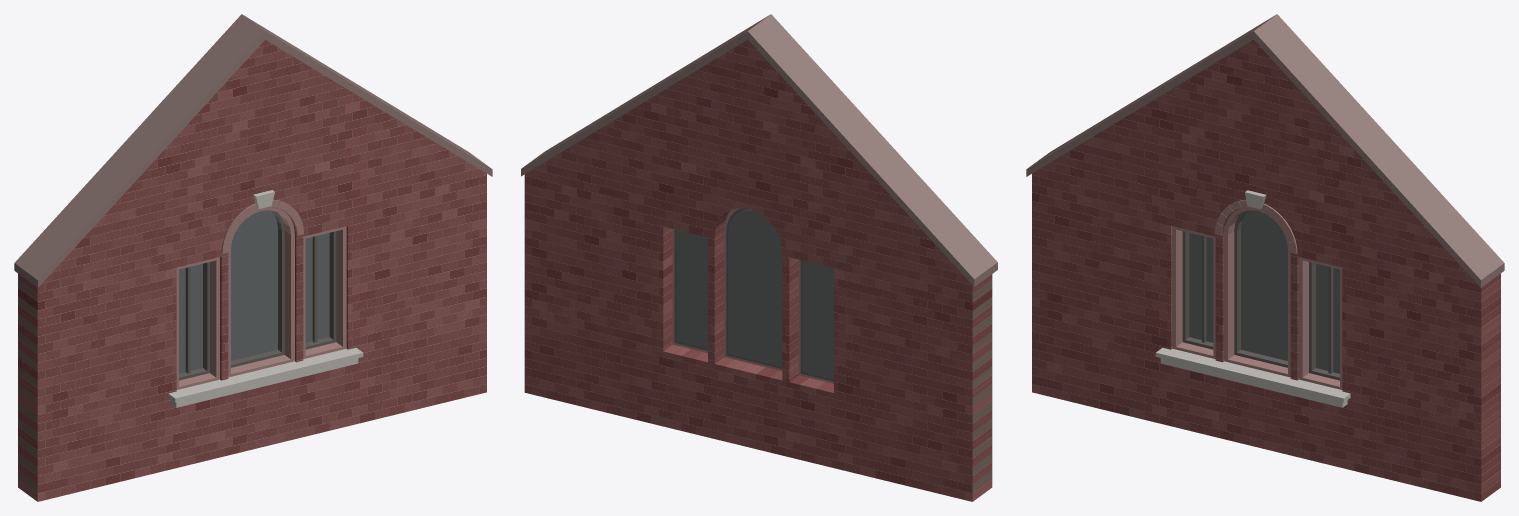
File: nie-garden-triple-attic-light-far.glb
3 renders of one model, left to right at view 1: azimuth 30°, elevation 25°; view 2: azimuth 150°, elevation 25°; view 3: azimuth 330°, elevation 25°, orthographic.
Visible parts, largest first — view 1: 聂家花园高山墙三联窗与拱顶楔石; view 2: 聂家花园高山墙三联窗与拱顶楔石; view 3: 聂家花园高山墙三联窗与拱顶楔石.
Part boxes in pixels (x1,y1,x2,y2): 聂家花园高山墙三联窗与拱顶楔石: (14, 14, 492, 501); 聂家花园高山墙三联窗与拱顶楔石: (521, 14, 997, 501); 聂家花园高山墙三联窗与拱顶楔石: (1026, 14, 1504, 501).
Size of the model in its own units: 3.38 by 2.97 by 0.354.
Materials: 6 (1 with a texture image).
